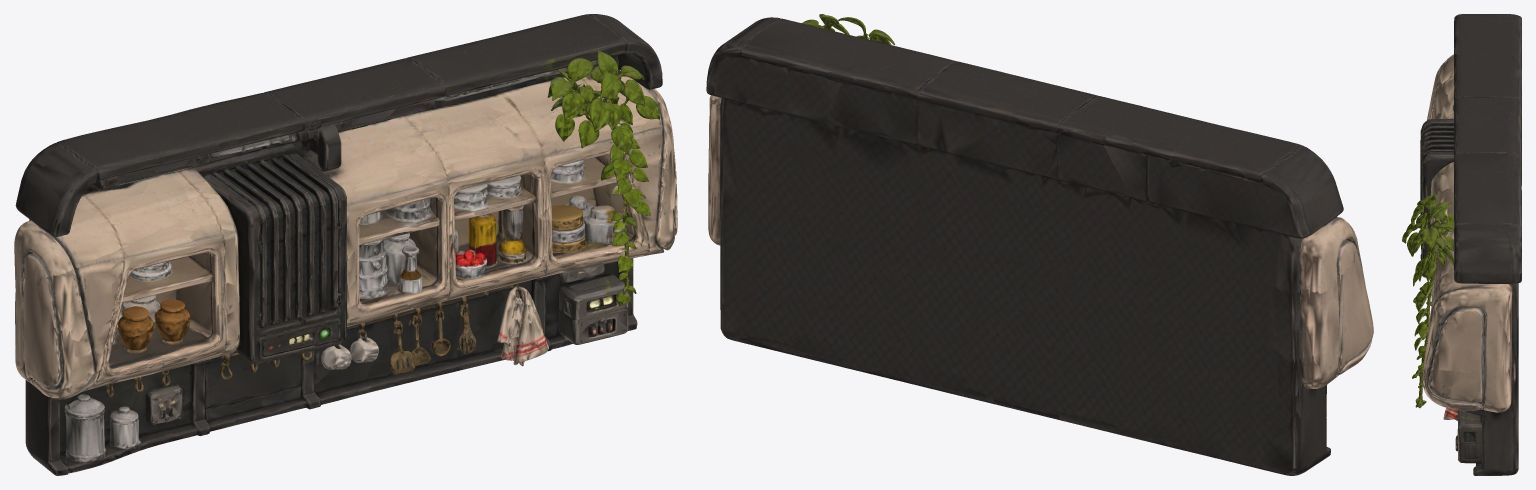
The model's file is kitchen_cabinet.glb.
The picture shows the model from 3 angles, left to right: view 1: azimuth 30°, elevation 25°; view 2: azimuth 150°, elevation 25°; view 3: azimuth 270°, elevation 25°; orthographic projection. The views are drawn at different scales.
Parts seen in each view (by area): view 1: Mesh_0; view 2: Mesh_0; view 3: Mesh_0.
Boxes of the visible parts, x1,y1,x2,y2 form: Mesh_0: [14, 14, 677, 475]; Mesh_0: [706, 14, 1373, 475]; Mesh_0: [1402, 14, 1521, 475].
Bounding box in the file's own units: 1.9 × 0.8965 × 0.3874.
Materials: 1 (1 with a texture image).
